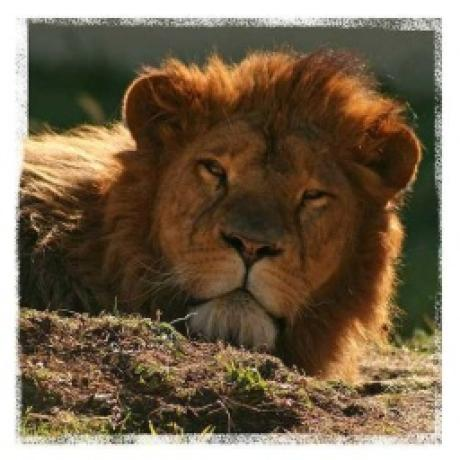Lion: (28, 48, 430, 378)
